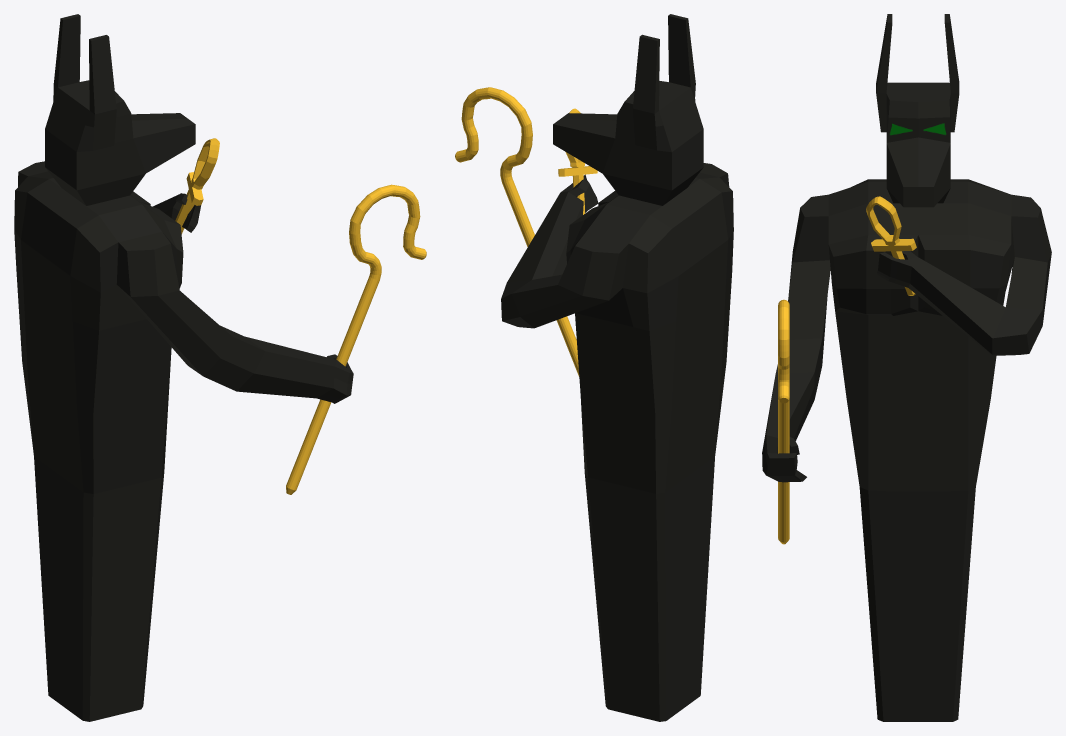
Rendered from anubis.obj.
3 views of the same model, side by side, from view 1: azimuth 30°, elevation 25°; view 2: azimuth 150°, elevation 25°; view 3: azimuth 270°, elevation 25° (orthographic).
Visible parts, largest first — view 1: Anubis_Cube, Scepter_Cylinder.001, Anhk_Cylinder.003; view 2: Anubis_Cube, Scepter_Cylinder.001, Anhk_Cylinder.003; view 3: Anubis_Cube, Scepter_Cylinder.001, Anhk_Cylinder.003.
Boxes of the visible parts, left/top/right/bottom form: Anubis_Cube: left=14, top=14, right=353, bottom=721; Scepter_Cylinder.001: left=286, top=184, right=426, bottom=494; Anhk_Cylinder.003: left=175, top=138, right=219, bottom=233; Anubis_Cube: left=501, top=14, right=733, bottom=721; Scepter_Cylinder.001: left=455, top=87, right=579, bottom=376; Anhk_Cylinder.003: left=558, top=108, right=597, bottom=214; Anubis_Cube: left=762, top=14, right=1051, bottom=721; Scepter_Cylinder.001: left=778, top=299, right=789, bottom=544; Anhk_Cylinder.003: left=866, top=196, right=916, bottom=295.
Size of the model in its own units: 6.28 by 12.94 by 4.97.
